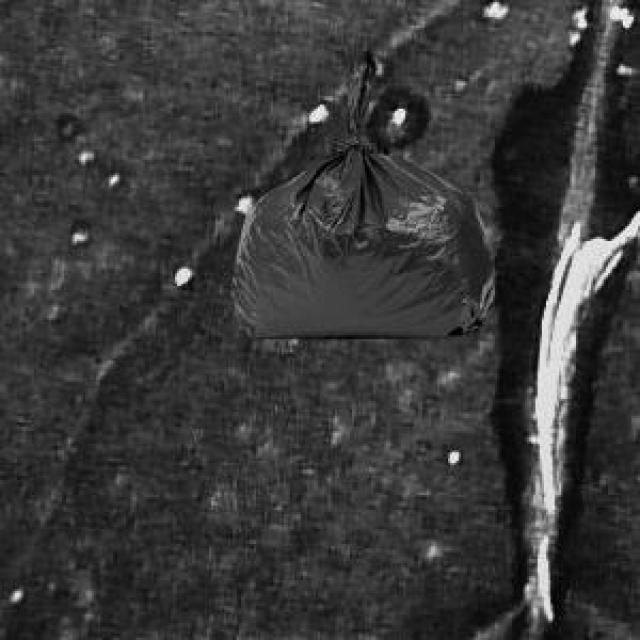miscellaneous trash: (228, 45, 491, 335)
